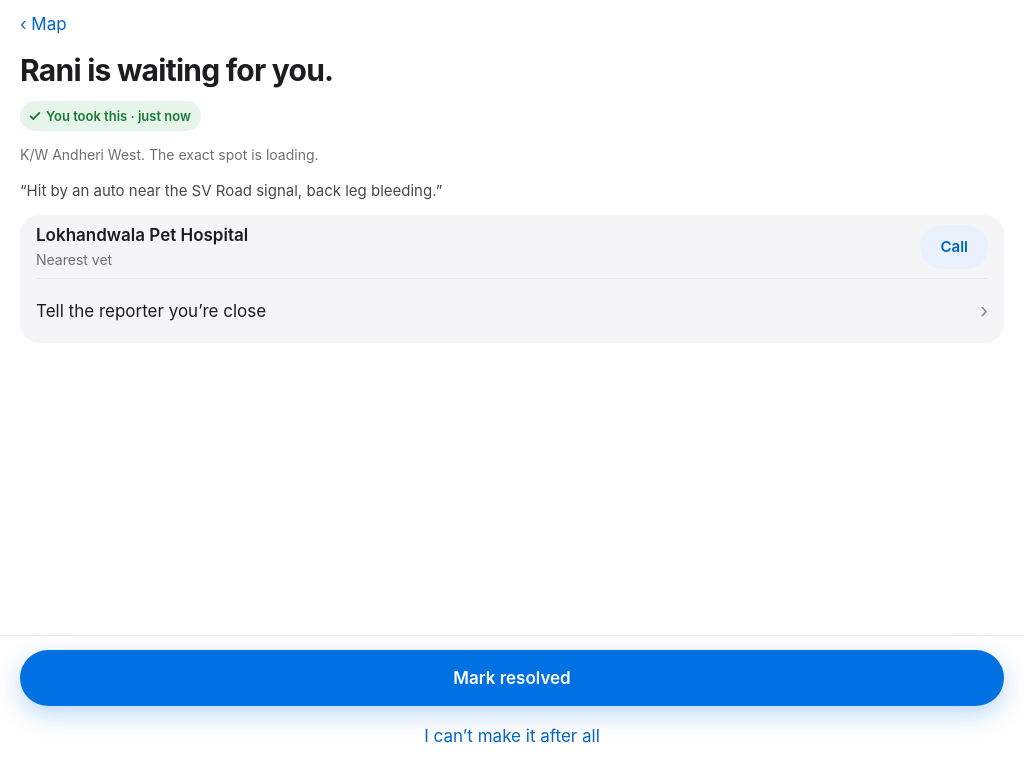
Scenario: /sos/[caseId] (design v6) › P10: 'I can't make it after all' releases the case back to others
Click the button "I can’t make it after all". click: [512, 736]
box: [20,714,1004,758]
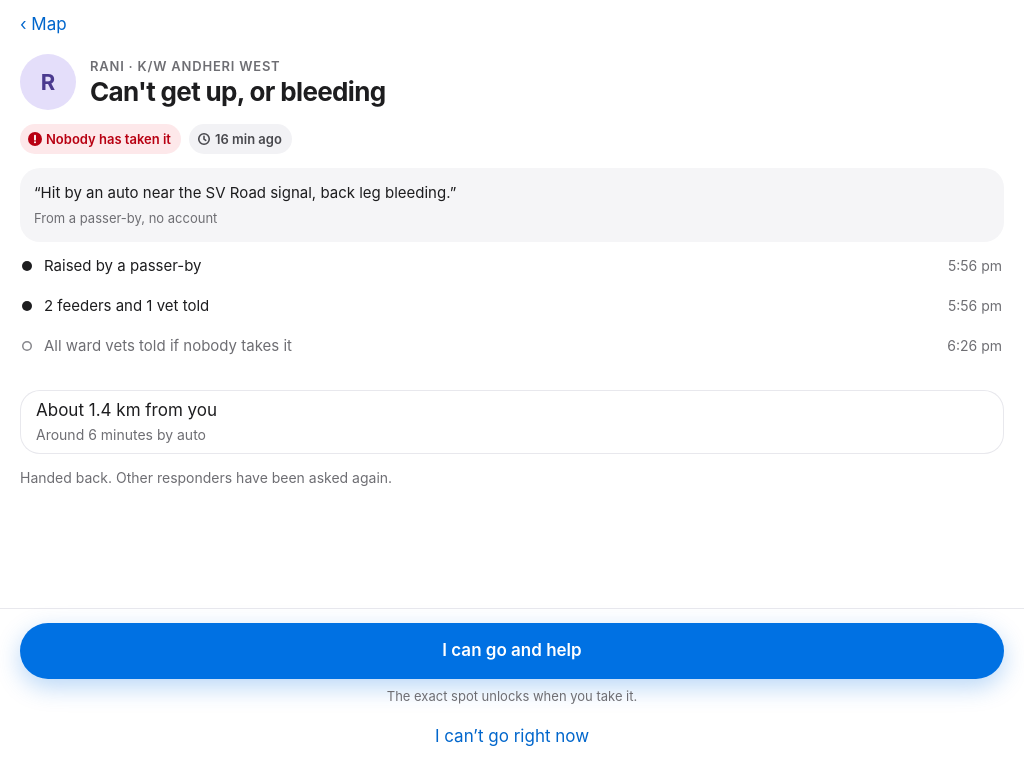
Expected: the text "Handed back. Other responders have been asked again." is shown, [20,469,392,486]
Expected: the button "I can go and help" is shown, [20,623,1004,679]
